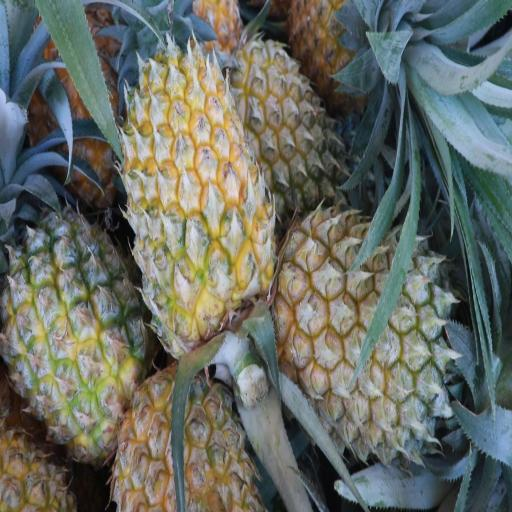------------------------------: (111, 362, 247, 512)
Pineapple - v8 v1: (122, 57, 271, 353), (6, 212, 142, 456)
